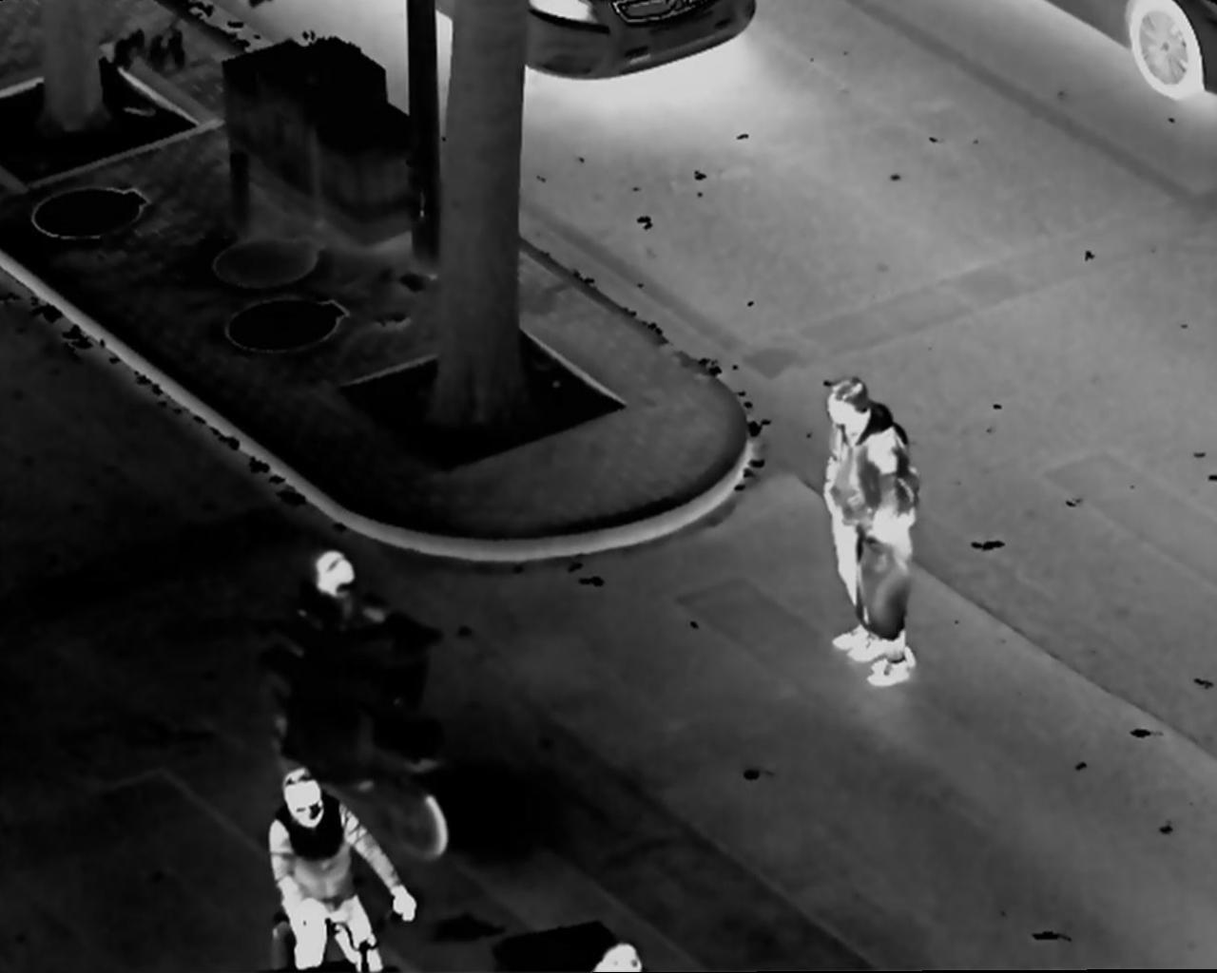person: (253, 765, 412, 969), (840, 416, 922, 696), (821, 372, 889, 658)
